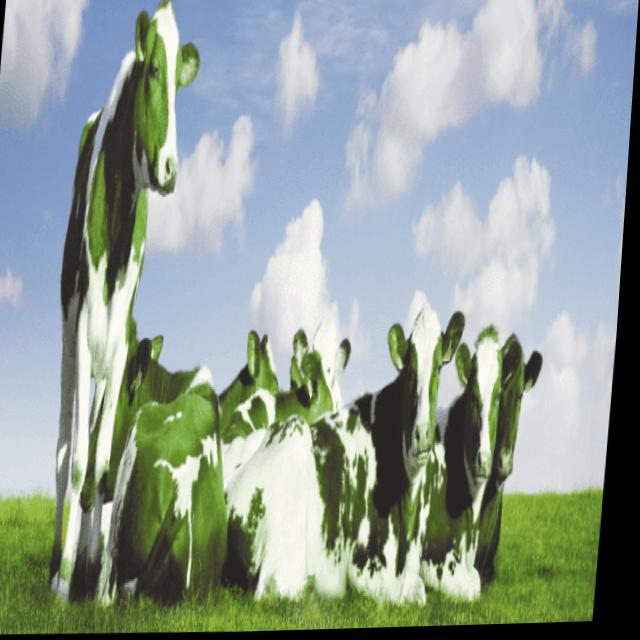cowFace: (122, 0, 206, 215), (381, 294, 471, 483), (452, 317, 527, 492), (494, 328, 553, 485)
